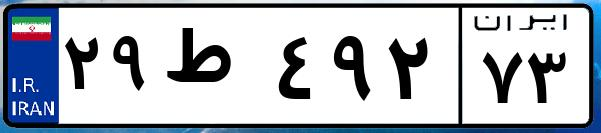2: (385, 28, 445, 110), (57, 26, 110, 100)
3: (525, 38, 570, 115)
4: (270, 28, 330, 110)
7: (475, 38, 525, 113)
9: (330, 28, 385, 110), (110, 28, 158, 98)
ط: (158, 20, 270, 120)
